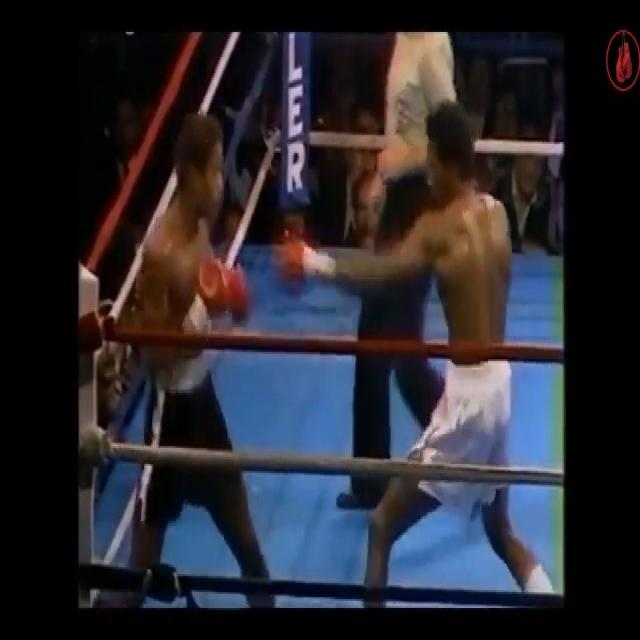Jab: (234, 164, 510, 434)
